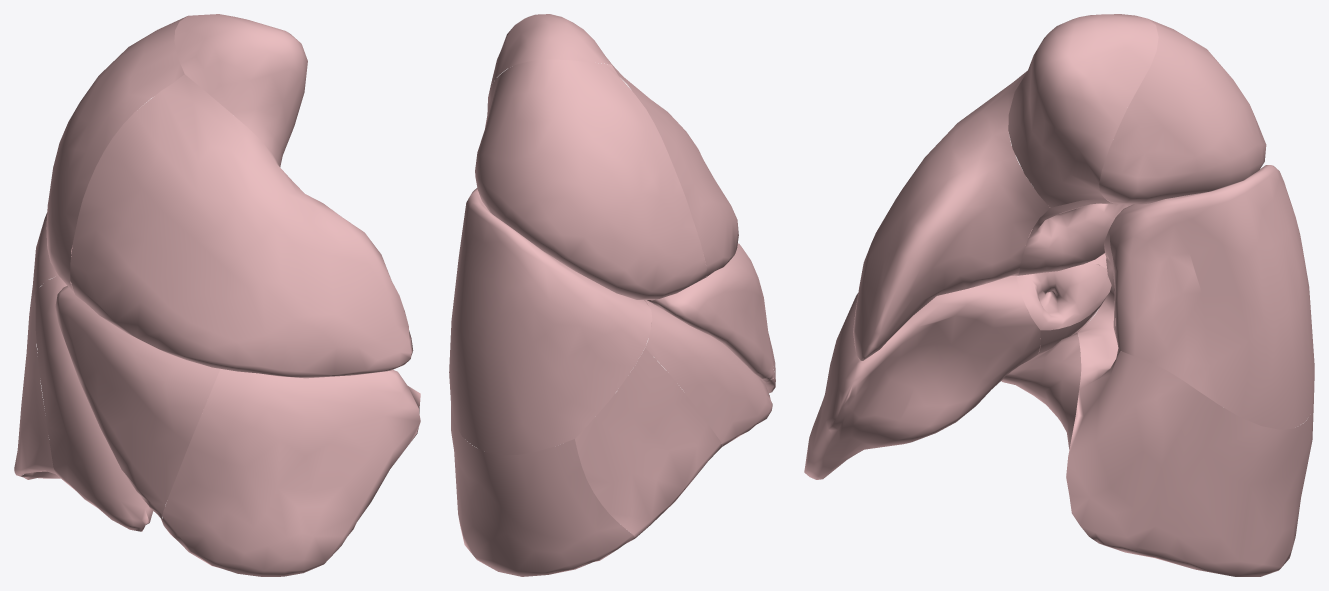
Rendered from lung_right.glb.
3 views of the same model, side by side, from view 1: azimuth 30°, elevation 25°; view 2: azimuth 150°, elevation 25°; view 3: azimuth 270°, elevation 25° (orthographic). The views are drawn at different scales.
Visible parts, largest first — view 1: lung_right; view 2: lung_right; view 3: lung_right.
Boxes of the visible parts, x1=… form: lung_right: x1=14, y1=14, x2=420, y2=576; lung_right: x1=449, y1=14, x2=775, y2=576; lung_right: x1=804, y1=14, x2=1314, y2=576.
Bounding box in the file's own units: 0.1236 × 0.2275 × 0.1896.
